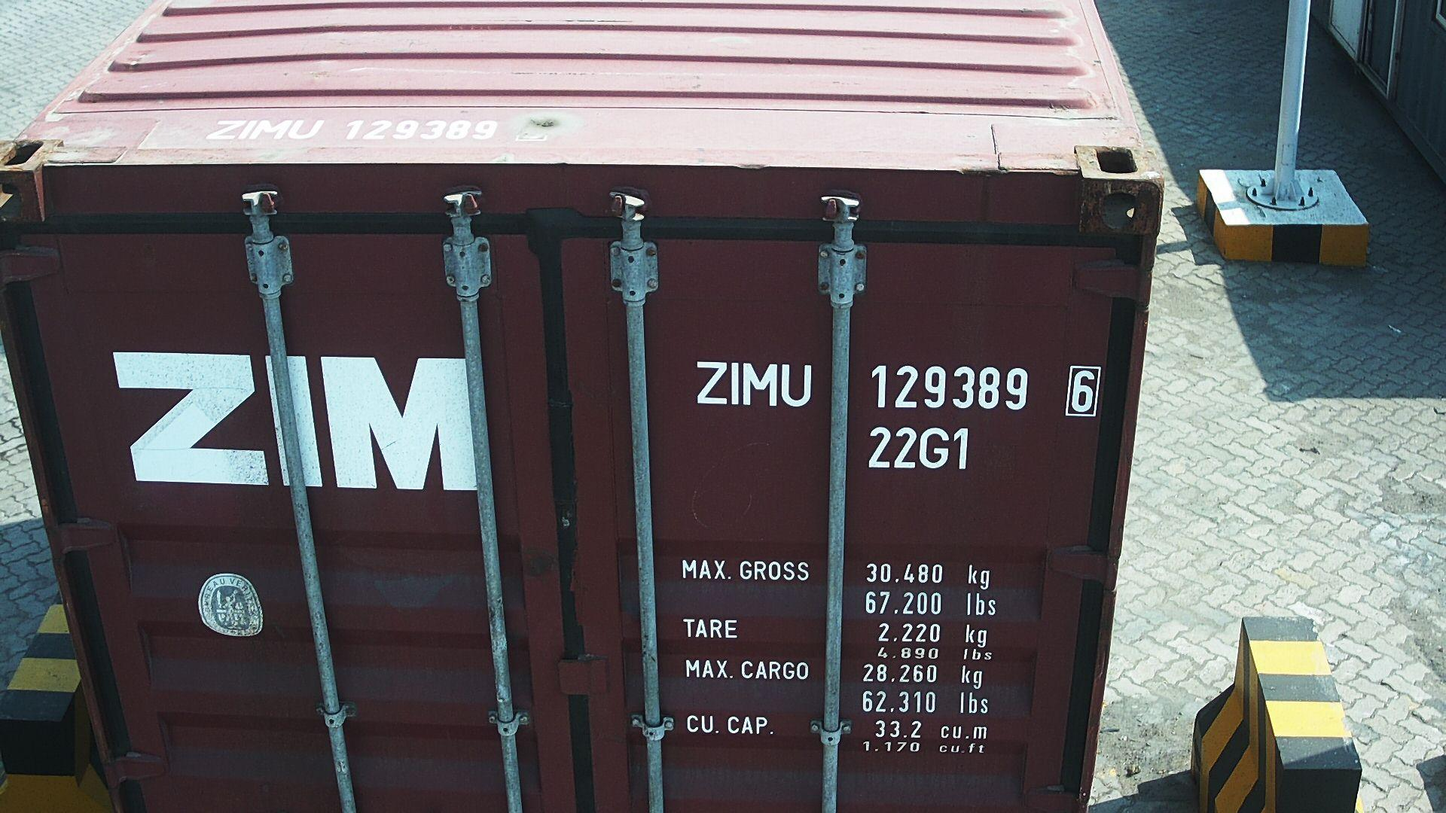container-numbers: (693, 358, 1104, 419), (206, 114, 547, 146), (864, 422, 975, 473)
